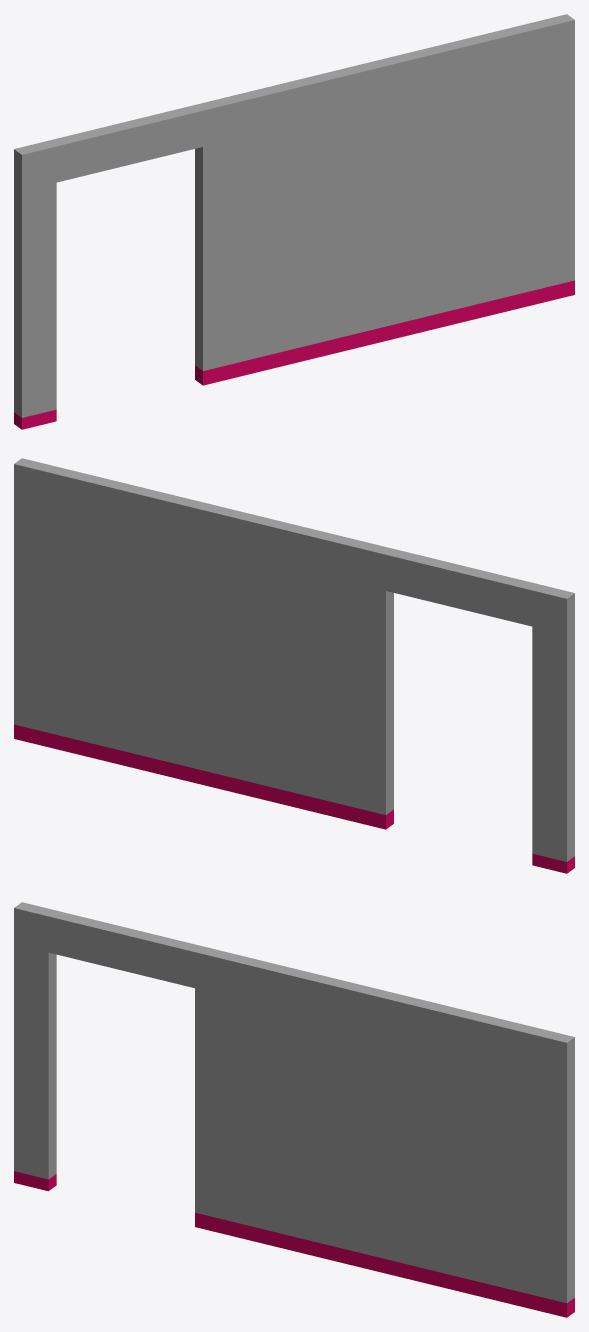
Rendered from Staffroom_Door_Wall_01_Snaps014.fbx.
The picture shows the model from 3 angles, top to bottom: view 1: azimuth 30°, elevation 25°; view 2: azimuth 150°, elevation 25°; view 3: azimuth 330°, elevation 25°; orthographic projection.
Visible parts, largest first — view 1: Staffroom_Door_Wall_01; view 2: Staffroom_Door_Wall_01; view 3: Staffroom_Door_Wall_01.
Boxes of the visible parts, bbox=[...] form: Staffroom_Door_Wall_01: bbox=[14, 14, 574, 429]; Staffroom_Door_Wall_01: bbox=[14, 458, 574, 873]; Staffroom_Door_Wall_01: bbox=[14, 902, 574, 1317].
Size of the model in its own units: 800 by 380 by 20.
